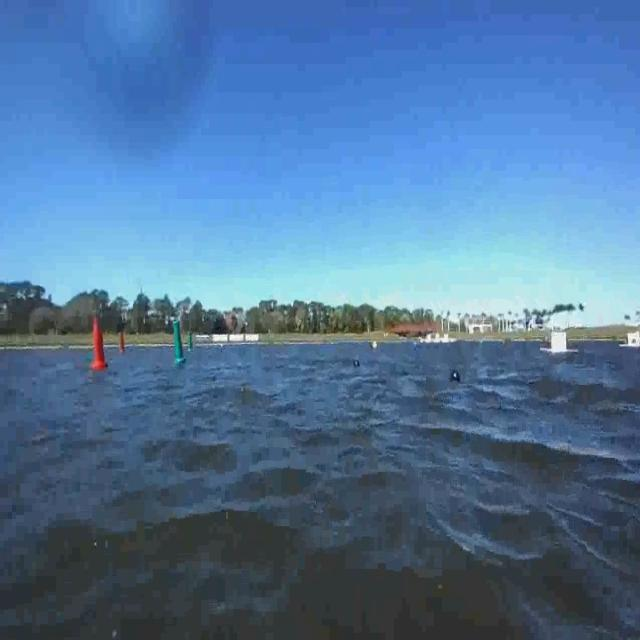black-buoy: (452, 369, 460, 383)
green-column-buoy: (172, 321, 186, 366), (187, 333, 192, 350)
red-column-buoy: (90, 316, 109, 372), (120, 330, 130, 355)
yellow-buoy: (370, 341, 377, 352)
